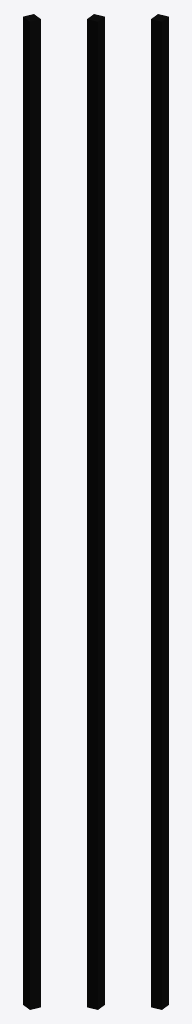
File: clock_hand_seconds.obj
3 renders of one model, left to right at view 1: azimuth 30°, elevation 25°; view 2: azimuth 150°, elevation 25°; view 3: azimuth 330°, elevation 25°, orthographic.
Parts seen in each view (by area): view 1: clock_hand.002; view 2: clock_hand.002; view 3: clock_hand.002.
Boxes of the visible parts, <box> form: clock_hand.002: <box>23,14,40,1009</box>; clock_hand.002: <box>87,14,104,1009</box>; clock_hand.002: <box>151,14,168,1009</box>.
Size of the model in its own units: 0.0106 by 0.92 by 0.0118.
1 material, 1 textured.
